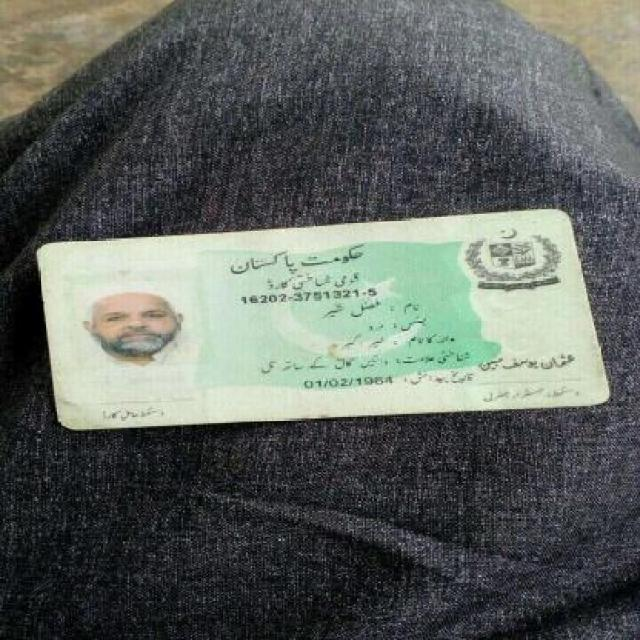Front: (34, 210, 609, 432)
